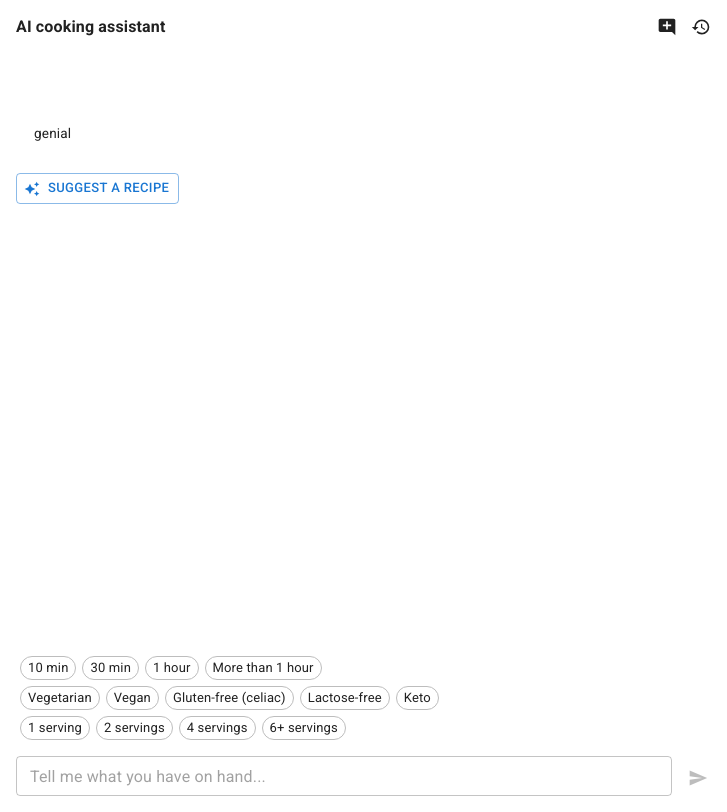
it: ChatView › shows the suggest-recipe button once there are enough messages, and renders suggestions inline after clicking it
expect the text "Arroz con pollo" is not shown: met
Click the button "Suggest a recipe": [98, 189] box [16,173,179,204]
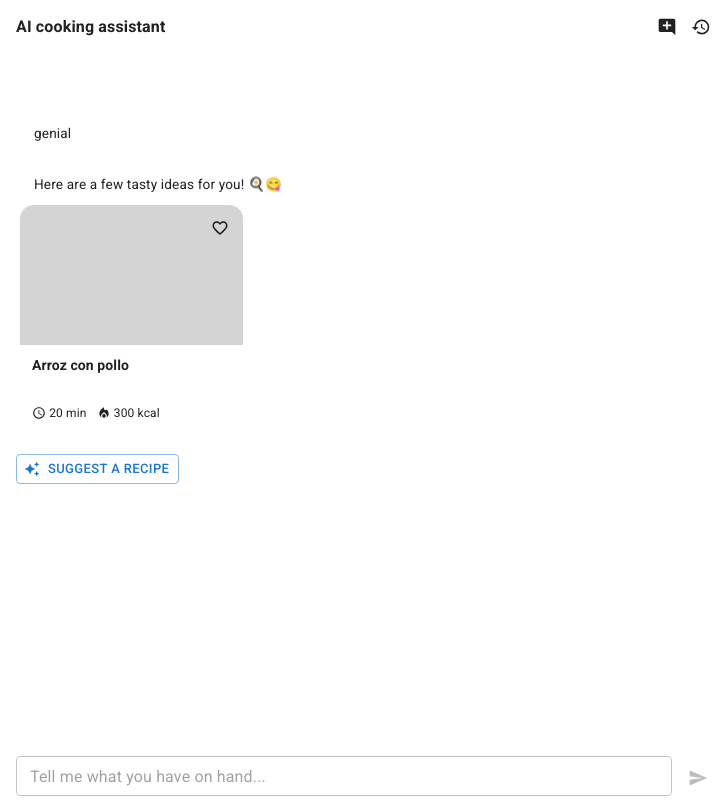
expect the heading "Arroz con pollo" is shown: met, box [32,357,129,373]
